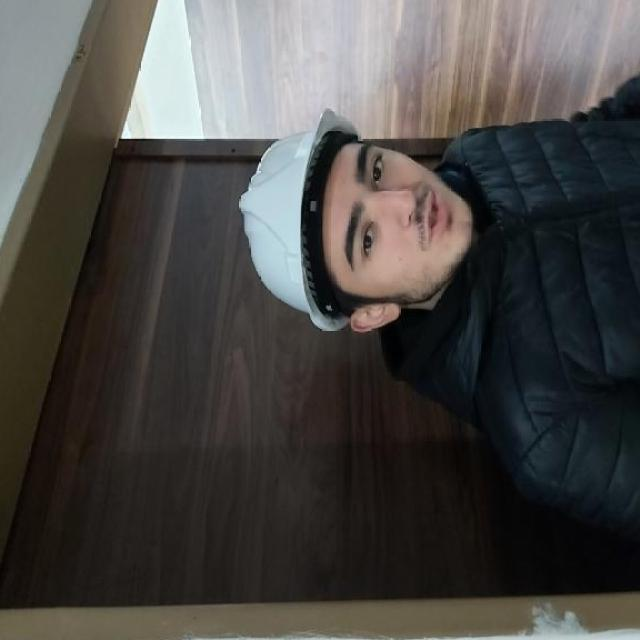helmet: (238, 107, 360, 331)
